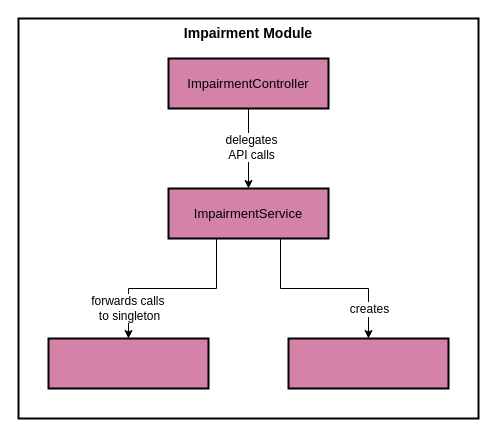
This 496x436 diagram has some shape labels left out. The centre of each missing label's shape, as x and y in pixels:
ImpairmentGenerator: point 368,363
ImpairmentHandler: point 128,363
